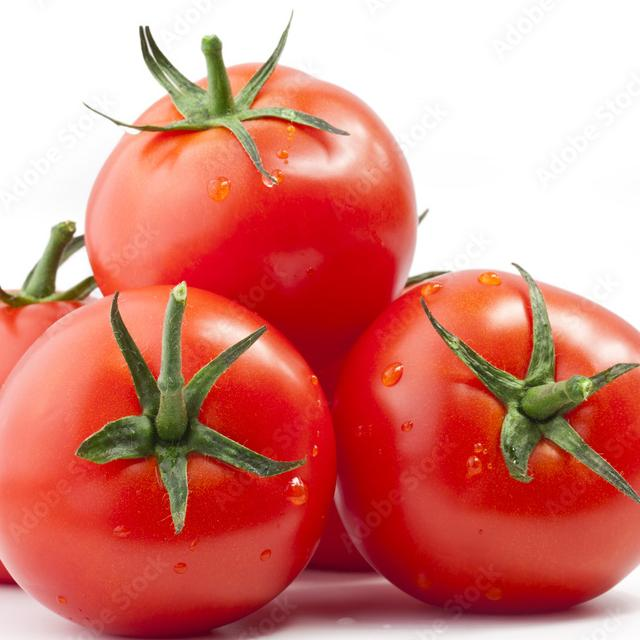tomato: (0, 281, 337, 640), (330, 265, 640, 614), (85, 57, 419, 373), (0, 281, 136, 585)
